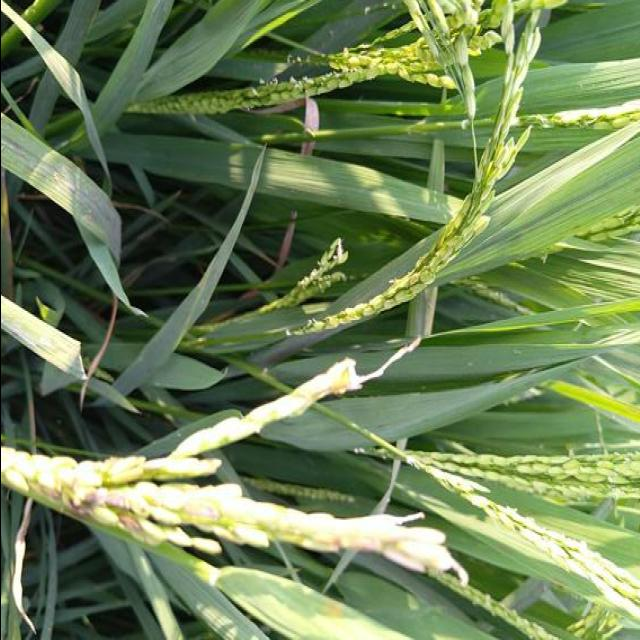Panicle Blight: (268, 511, 466, 584), (27, 455, 165, 545)
